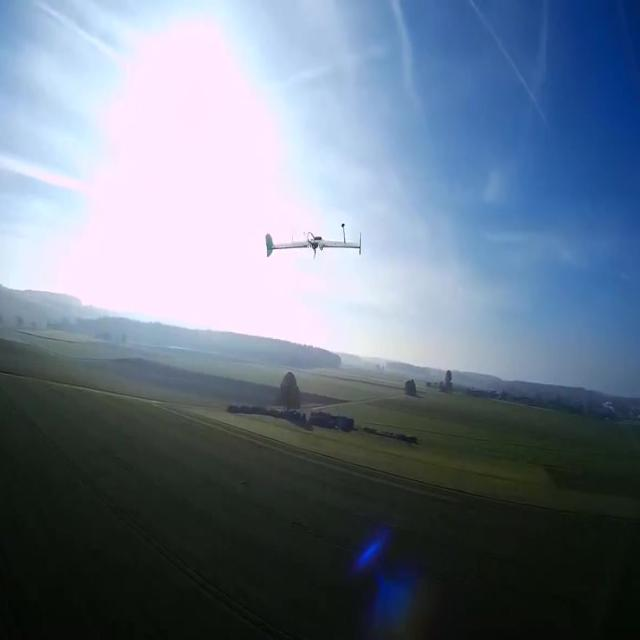iha: (296, 221, 331, 259)
